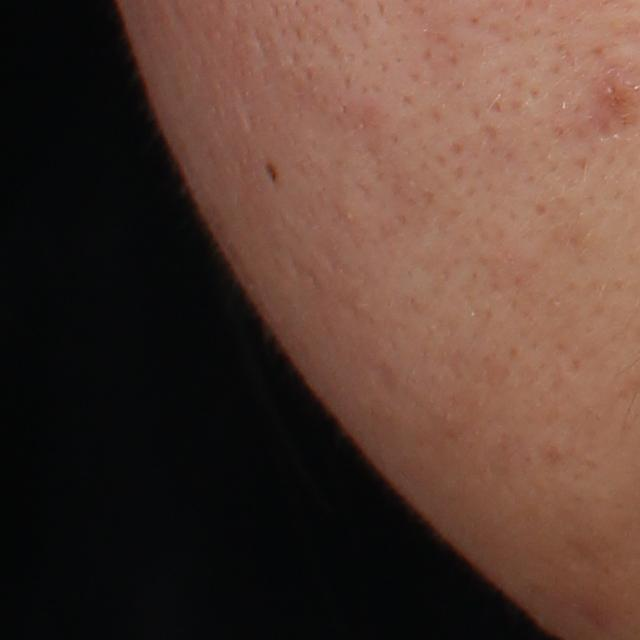nevus: (264, 160, 283, 186)
